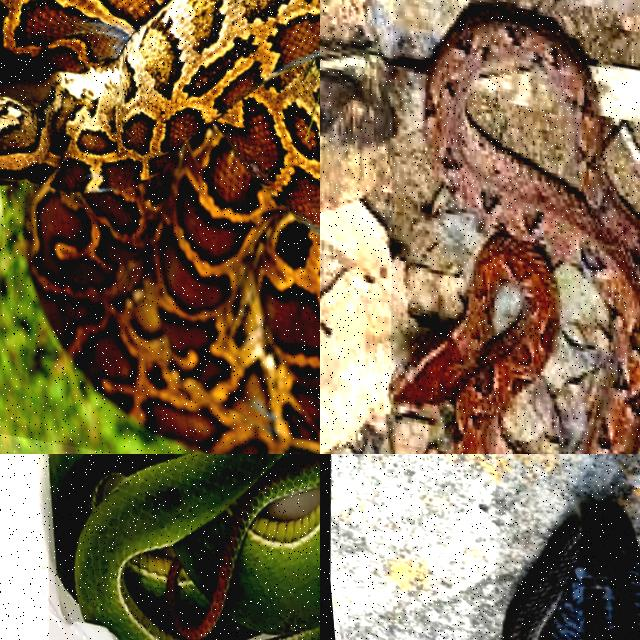Calloselasma rhodostoma: (391, 6, 639, 453)
Naja siamensis: (504, 503, 639, 639)
Python bivittatus: (0, 0, 319, 453)
Trimeresurus: (49, 454, 319, 639)
